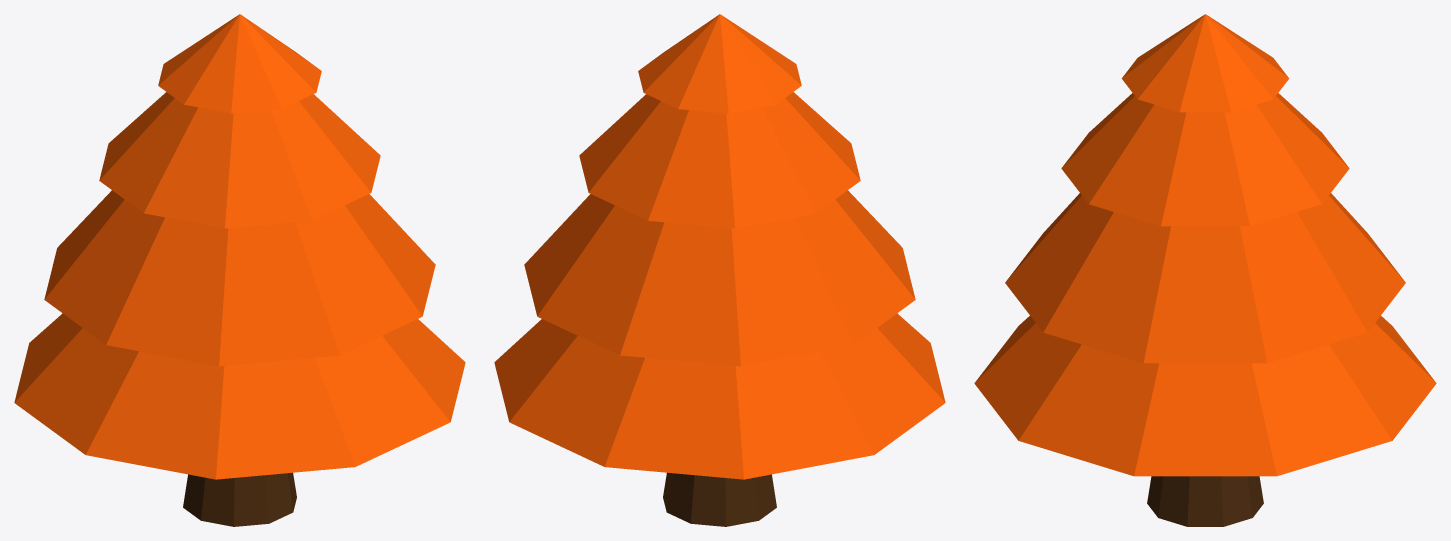
Rendered from Short_Pine_002.fbx.
3 views of the same model, side by side, from view 1: azimuth 30°, elevation 25°; view 2: azimuth 150°, elevation 25°; view 3: azimuth 270°, elevation 25° (orthographic).
Parts seen in each view (by area): view 1: Short Pine.002; view 2: Short Pine.002; view 3: Short Pine.002.
Part boxes in pixels (<box>): Short Pine.002: <box>14,14,465,526</box>; Short Pine.002: <box>494,14,945,526</box>; Short Pine.002: <box>974,14,1436,526</box>.
Bounding box in the file's own units: 286 × 351 × 301.
